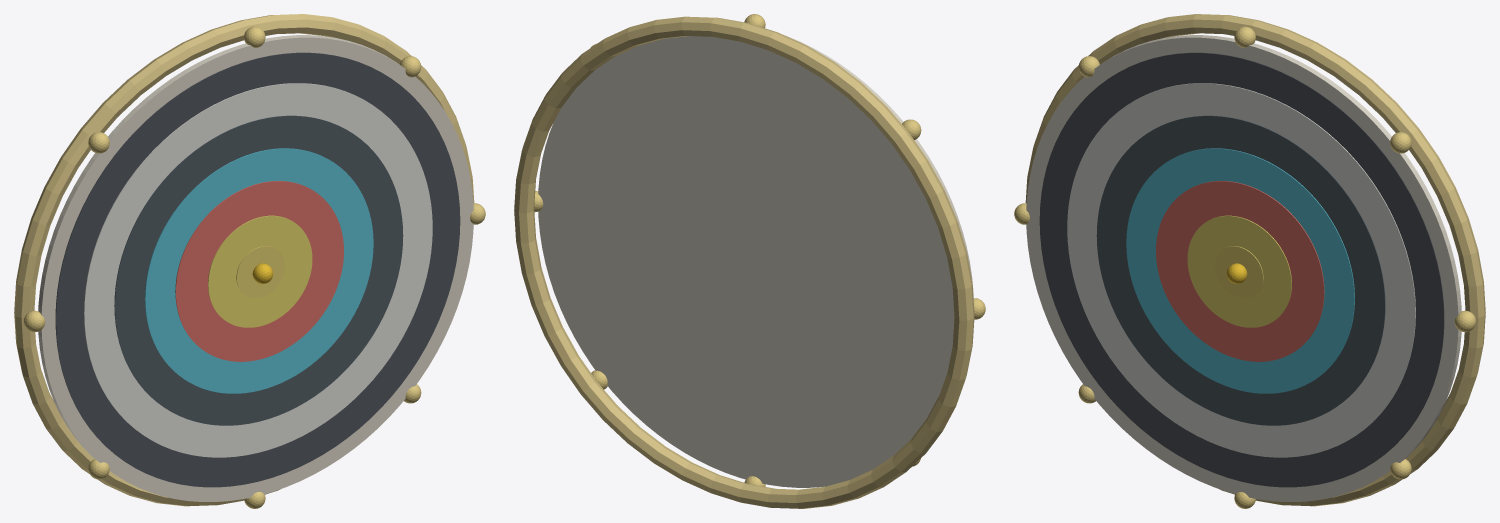
Rendered from alvo_suspenso_sem_cavalete.glb.
3 views of the same model, side by side, from view 1: azimuth 30°, elevation 25°; view 2: azimuth 150°, elevation 25°; view 3: azimuth 330°, elevation 25° (orthographic).
Parts seen in each view (by area): view 1: anel_pontuacao_1, anel_pontuacao_2, anel_pontuacao_3, anel_pontuacao_0, anel_pontuacao_4, aro_dourado, anel_pontuacao_5, anel_pontuacao_6, anel_pontuacao_7; view 2: anel_pontuacao_0, aro_dourado; view 3: anel_pontuacao_1, anel_pontuacao_2, anel_pontuacao_3, anel_pontuacao_0, anel_pontuacao_4, aro_dourado, anel_pontuacao_5, anel_pontuacao_6, anel_pontuacao_7.
Boxes of the visible parts, <box> form: anel_pontuacao_1: <box>55,52,460,487</box>; anel_pontuacao_2: <box>84,83,432,457</box>; anel_pontuacao_3: <box>114,115,403,425</box>; anel_pontuacao_0: <box>38,35,473,501</box>; anel_pontuacao_4: <box>145,148,373,393</box>; aro_dourado: <box>14,14,474,506</box>; anel_pontuacao_5: <box>175,181,343,361</box>; anel_pontuacao_6: <box>208,215,312,327</box>; anel_pontuacao_7: <box>236,246,284,297</box>; anel_pontuacao_0: <box>538,35,973,487</box>; aro_dourado: <box>514,16,974,508</box>; anel_pontuacao_1: <box>1039,52,1444,487</box>; anel_pontuacao_2: <box>1067,83,1415,457</box>; anel_pontuacao_3: <box>1096,115,1385,425</box>; anel_pontuacao_0: <box>1026,35,1461,501</box>; anel_pontuacao_4: <box>1126,148,1354,393</box>; aro_dourado: <box>1025,14,1485,506</box>; anel_pontuacao_5: <box>1156,181,1324,361</box>; anel_pontuacao_6: <box>1187,215,1291,327</box>; anel_pontuacao_7: <box>1215,246,1263,297</box>.
Size of the model in its own units: 2.29 by 2.29 by 0.25.
